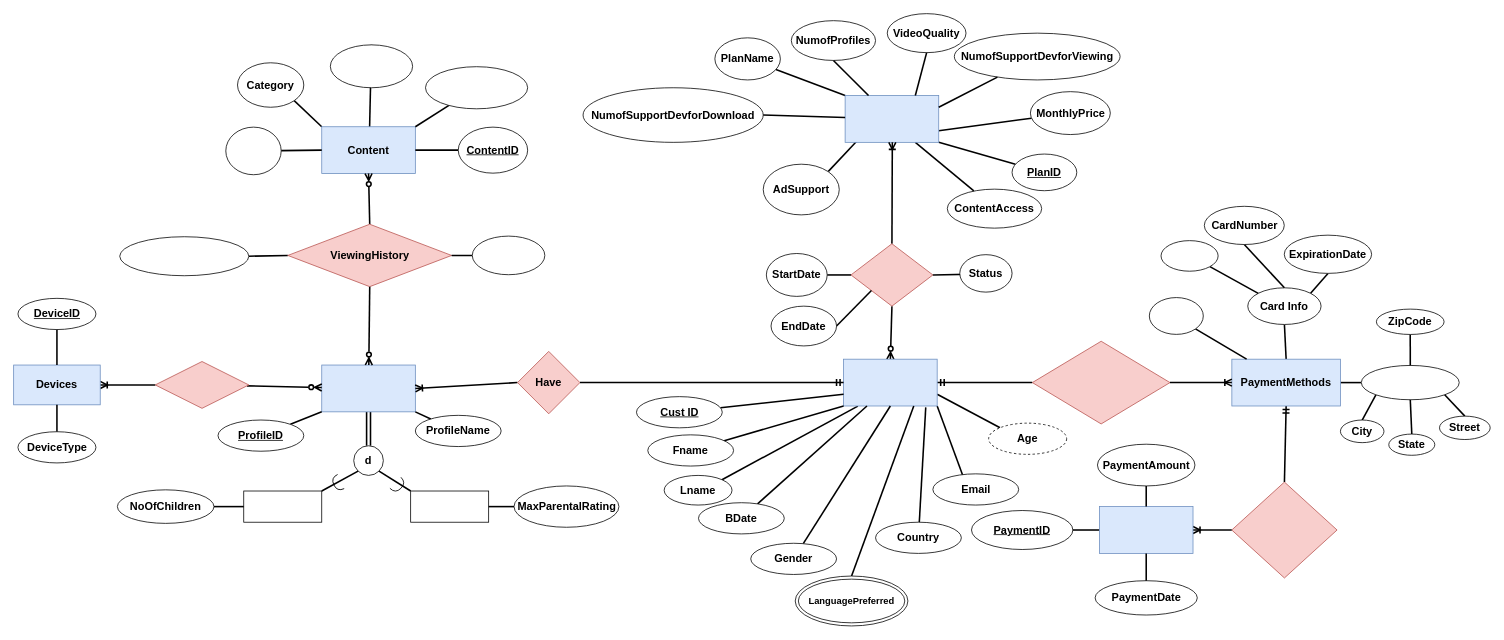
Image size: 1504x640. Some labels were removed from this diagram. Each missing label, with the centre of its shape:
"AdultAcc" goes at point (282, 506).
"Billing Address" goes at point (1410, 382).
"CardID" goes at point (1176, 315).
"ChildAcc" goes at point (449, 506).
"Customers" goes at point (890, 382).
"CVV" goes at point (1189, 255).
"Genre" goes at point (253, 150).
"HasPaymentMethods" goes at point (1101, 382).
"LastWatchedDate" goes at point (184, 256).
"Makes" goes at point (1284, 529).
"PaymentHistory" goes at point (1146, 529).
"Plans" goes at point (891, 118).
"Profiles" goes at point (368, 388).
"Runtime" goes at point (508, 255).
"Subscribe" goes at point (891, 274).
"TitleName" goes at point (371, 66).
"UnlimitedAccess" goes at point (476, 87).
"Uses" goes at point (201, 384).
